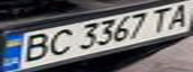3: (75, 20, 100, 51), (97, 17, 118, 47)
6: (112, 14, 136, 43)
7: (127, 10, 154, 39)
A: (163, 2, 193, 30)
B: (12, 31, 54, 64)
C: (42, 27, 78, 57)
T: (145, 6, 178, 34)
